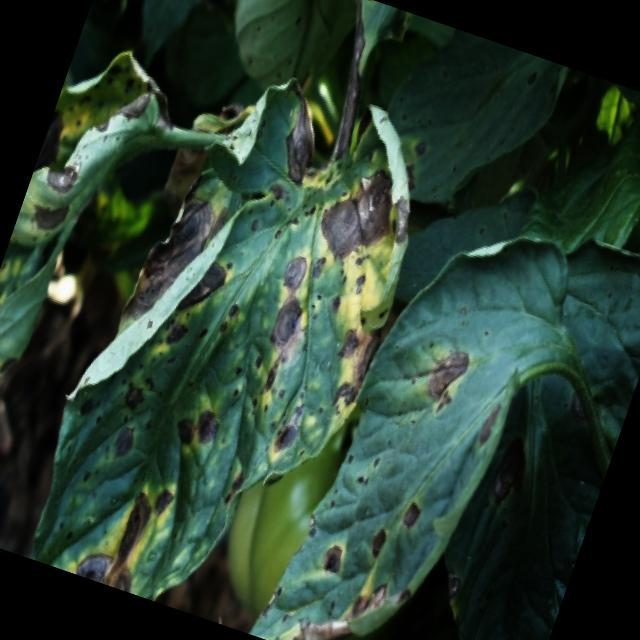Tomato Early blight leaf: (7, 14, 460, 640), (244, 184, 584, 640), (0, 30, 183, 458)
